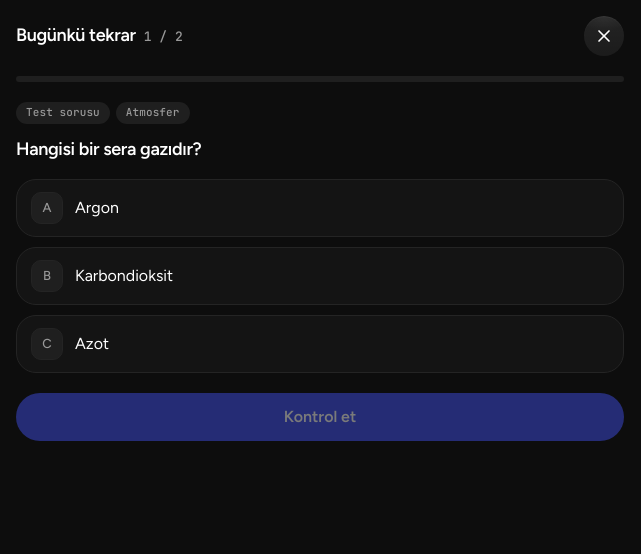
Test: tekrar oturumu › ağ düşerse soru geçilmez; yeniden denenince kaydedilir
Click the radio button labelled "C Azot": coordinates (47, 344) [16,315,624,373]
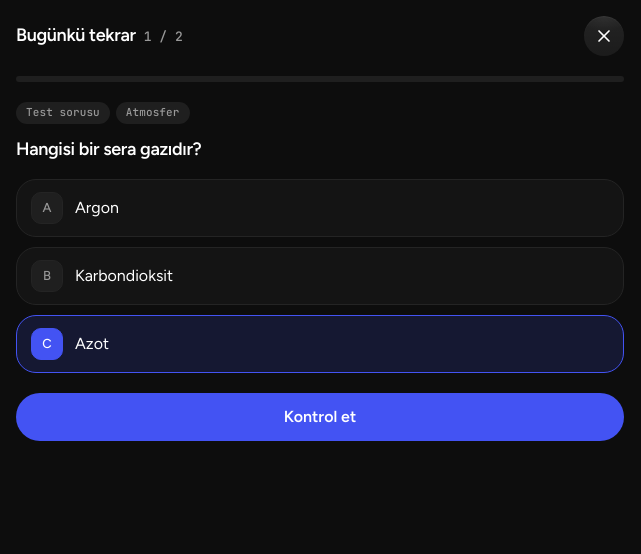
Click the button "Kontrol et": coordinates (320, 417) [16,393,624,441]
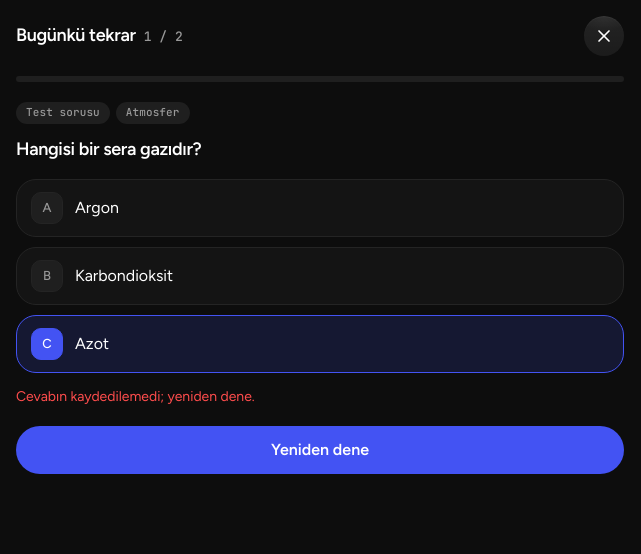
Expected: the text "1 / 2" is shown, [144,29,183,45]
Now the message reads "Cevabın kaydedilemedi; yeniden dene.", box [16,388,255,405]
Click the button "Yeniden dene": coordinates (320, 450) [16,426,624,474]
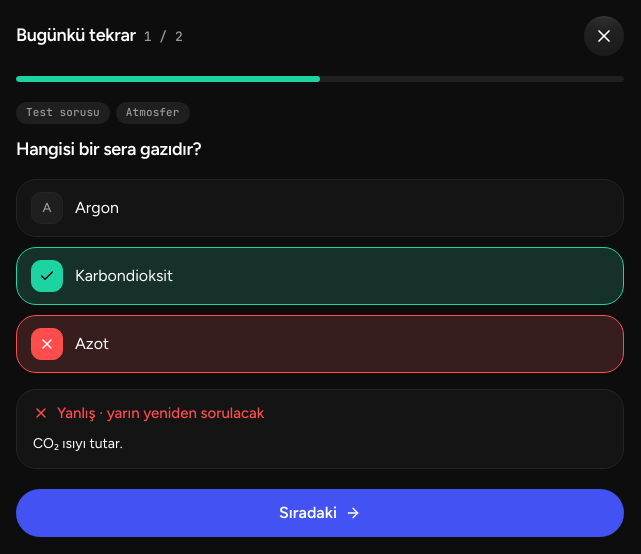
Now the text "Yanlış · yarın yeniden sorulacak" is shown, box [33,404,264,422]
Click the button "Sıradaki": coordinates (320, 513) [16,489,624,537]
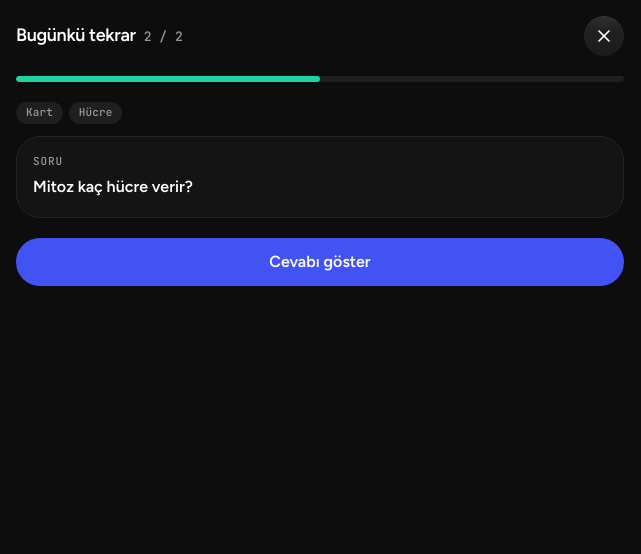
Now the text "2 / 2" is shown, box [144,29,183,45]
